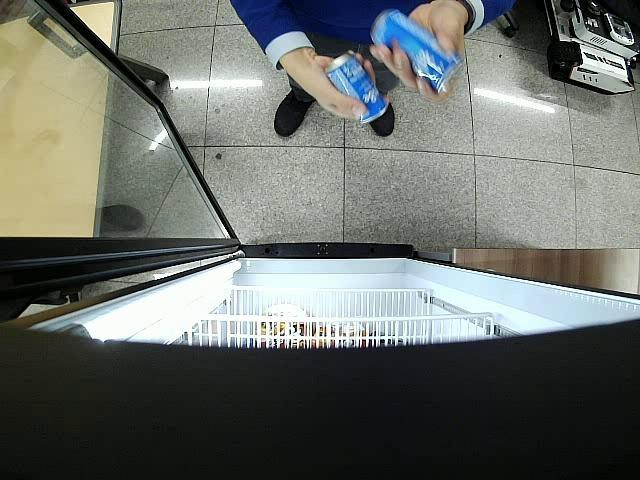15_letsbe: (371, 10, 464, 95), (326, 54, 388, 125)
